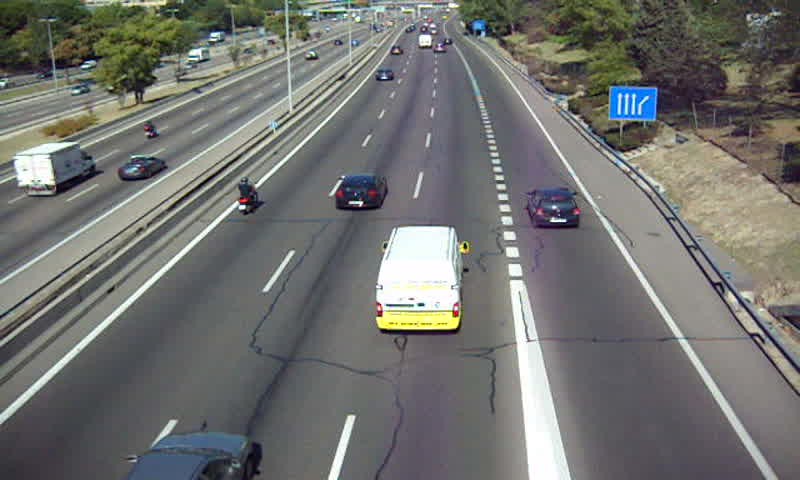car: (524, 187, 581, 230), (334, 172, 388, 209), (375, 66, 395, 83)
motorcycle: (234, 177, 258, 217)
van: (377, 226, 464, 330)
